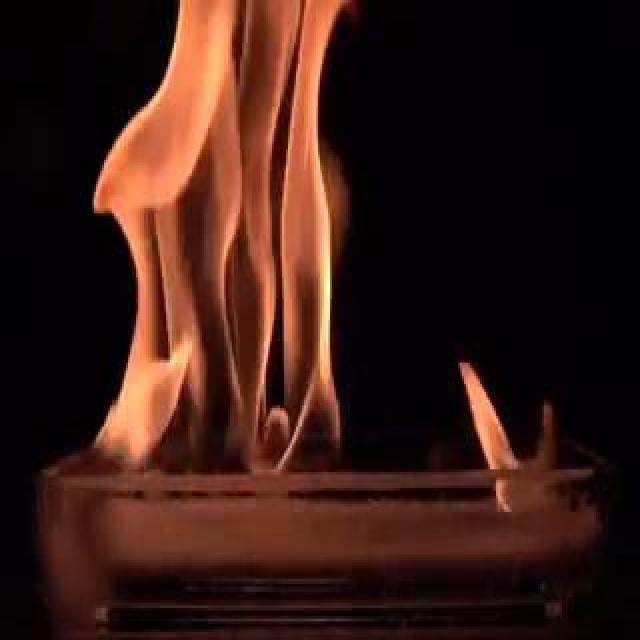Fire: (193, 3, 511, 477)
